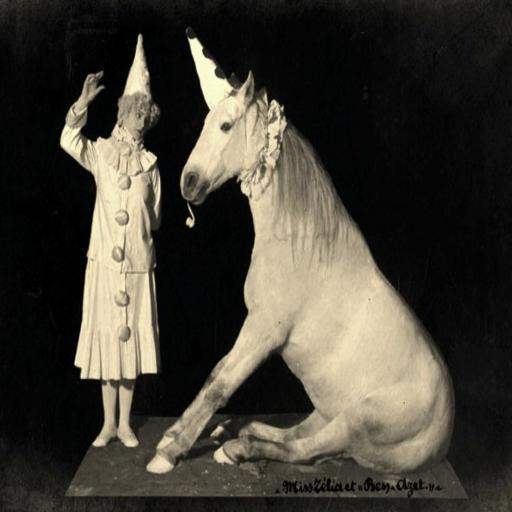horse: (143, 25, 458, 480)
